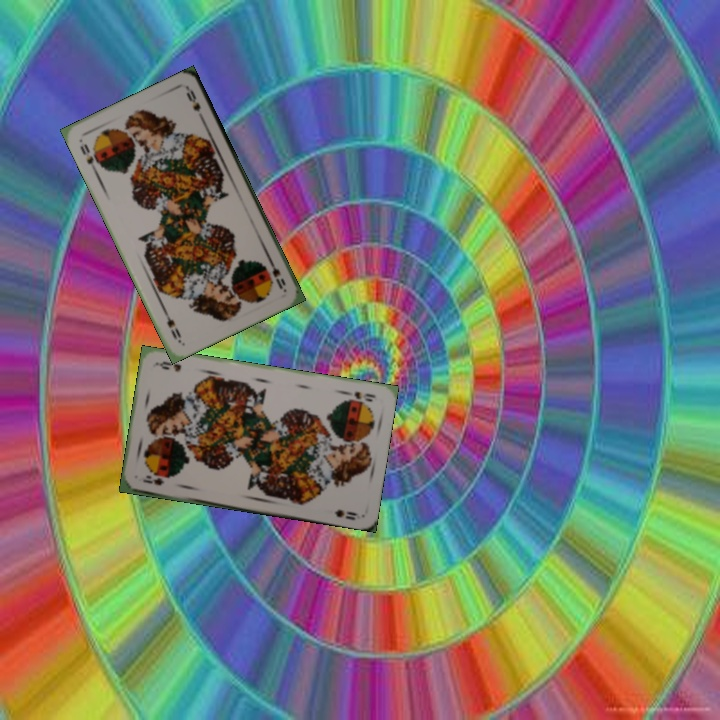SO: (264, 254, 288, 293), (76, 140, 99, 174), (340, 387, 378, 404), (139, 471, 167, 488)
